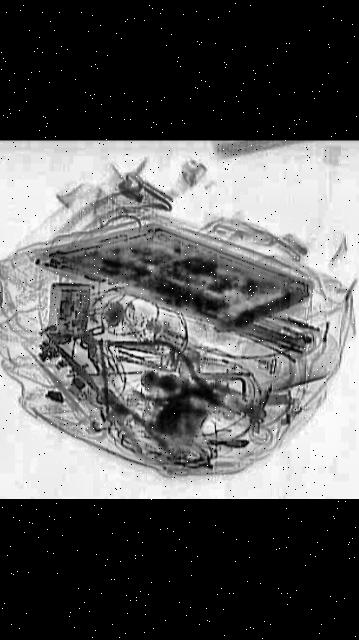Pliers: (80, 328, 271, 425)
